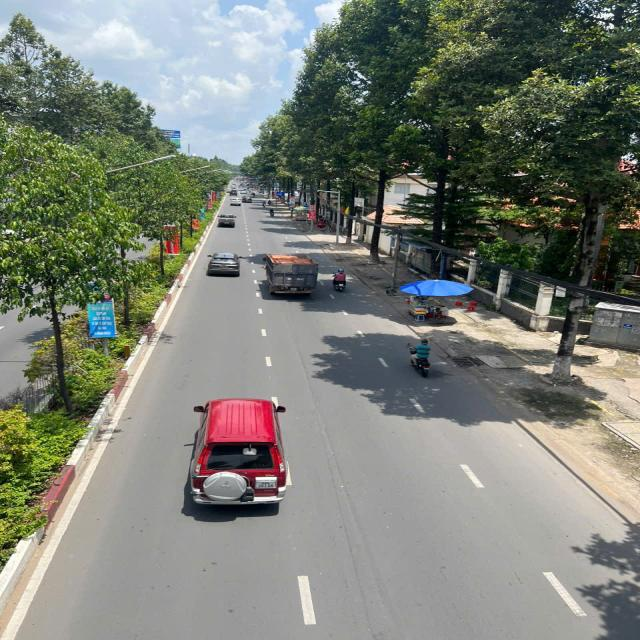ben: (260, 247, 324, 300)
car: (177, 394, 304, 516), (205, 248, 246, 283), (213, 210, 240, 230), (230, 194, 244, 207)
motobyte: (404, 333, 439, 381), (328, 264, 354, 294)
